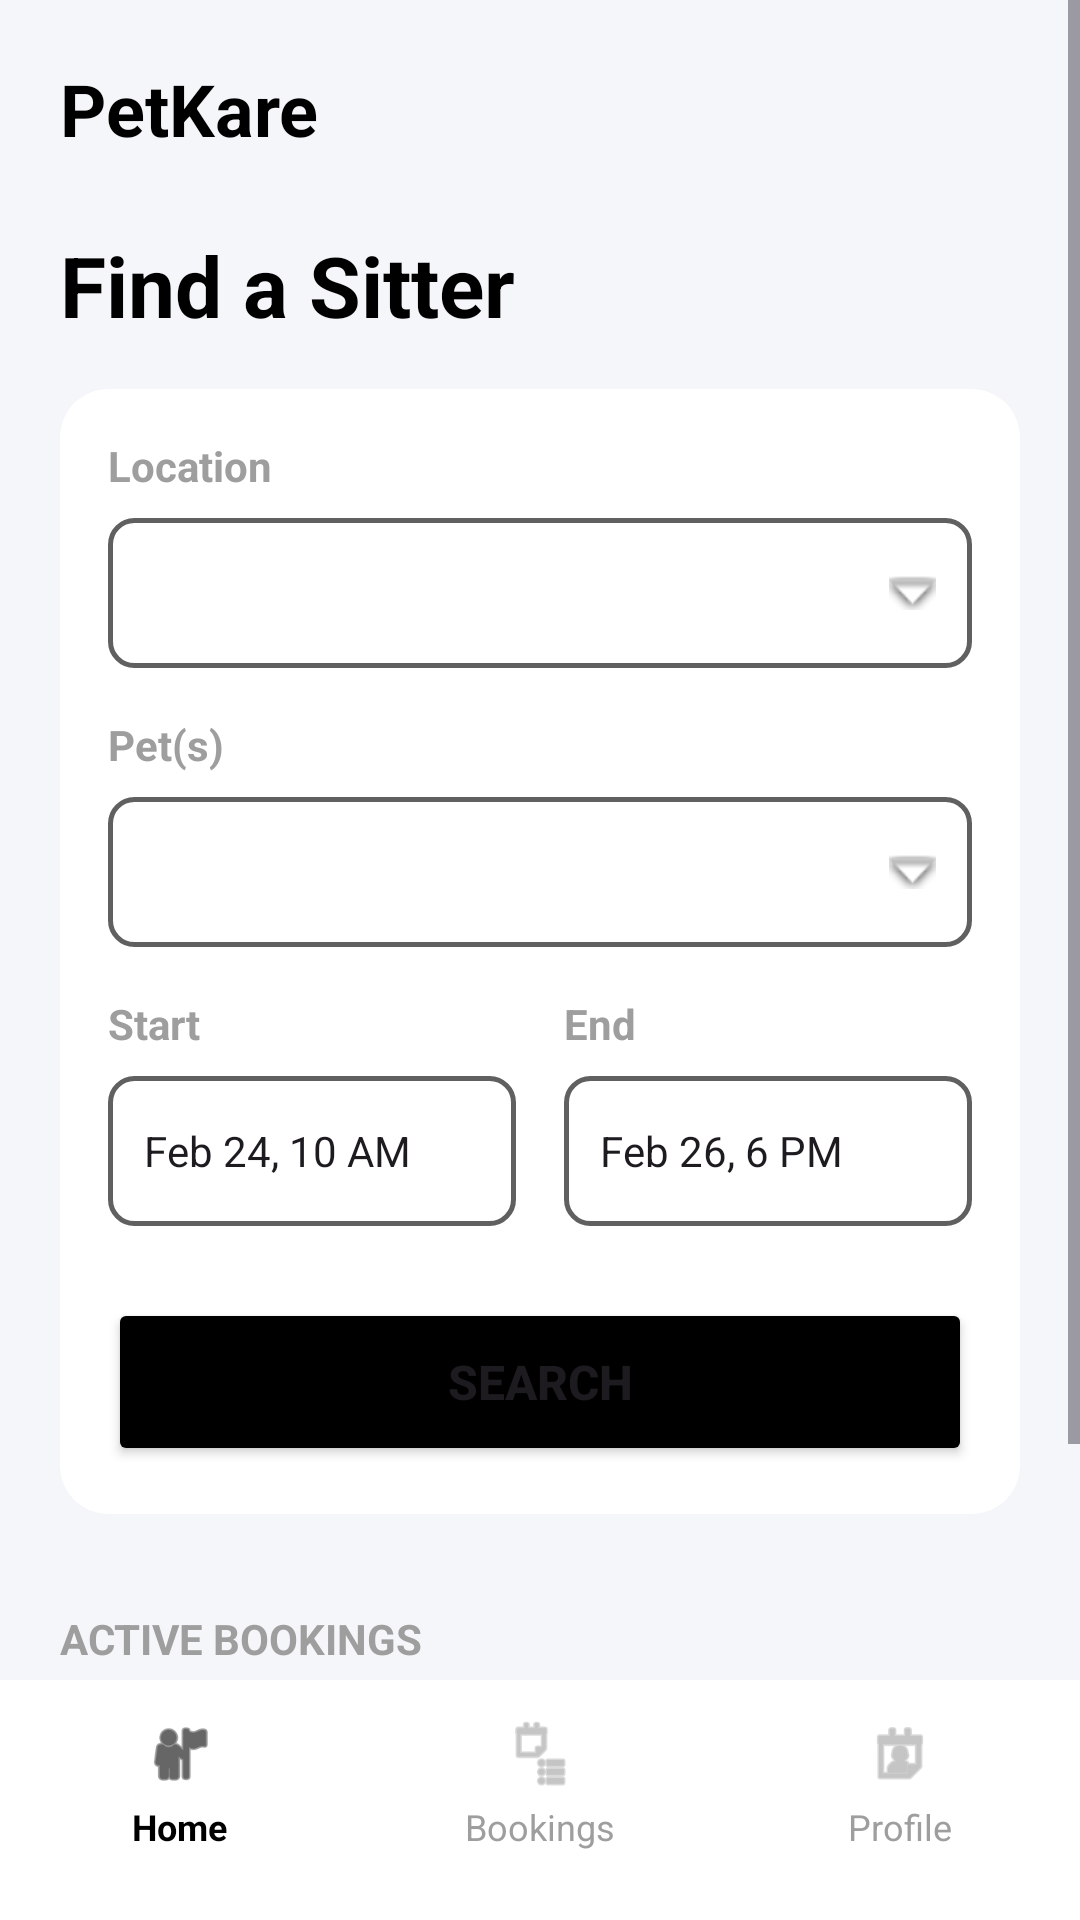

Named icons in this screenshot (1080px x 1920px) and their centers, [x,y]:
agenda: [540,1753]
calendar: [900,1753]
myplaces: [181,1754]
